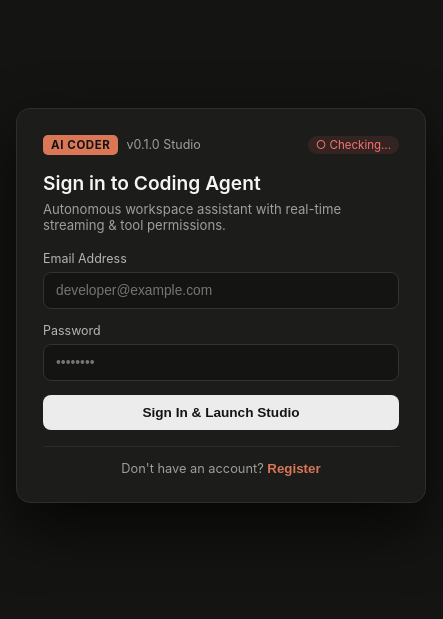
Test: AI Coder Web Studio & Multi-Step Registration › displays SVG CAPTCHA when generateOtp returns captcha_required
Step 1. Click the button "Register" → (294, 468), box x1=267 y1=460 x2=321 y2=476
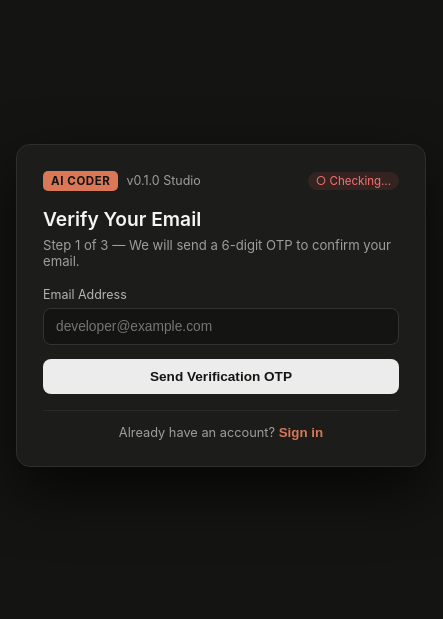
Step 2. Type "dev@example.com" into the field with placeholder "developer@example.com" → (221, 326), box x1=43 y1=308 x2=399 y2=344
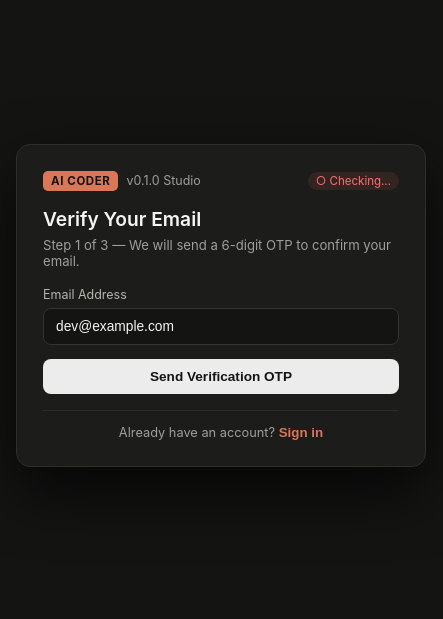
Step 3. Click the button "Send Verification OTP" → (221, 376), box x1=43 y1=358 x2=399 y2=394
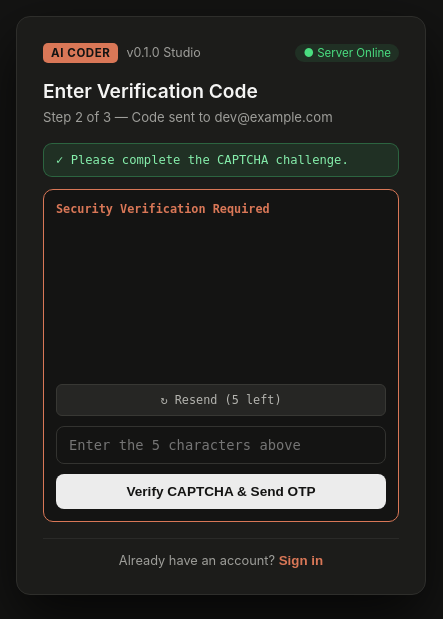
Expected: the text "Security Verification Required" is shown, x1=56 y1=202 x2=270 y2=216
